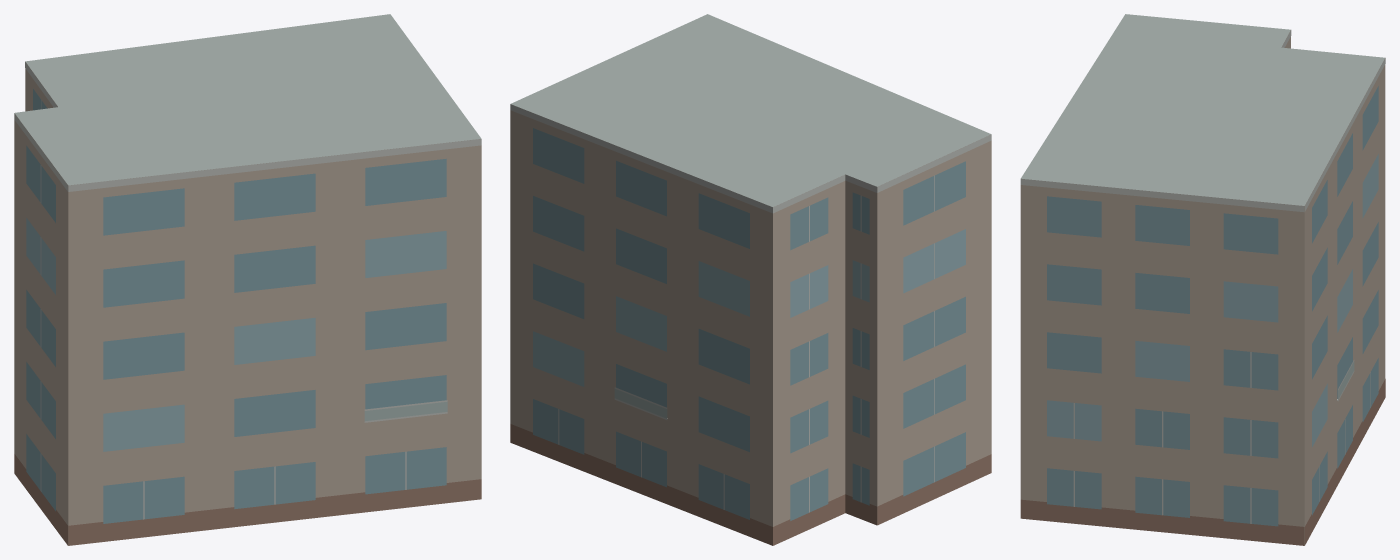
File: survey-upis-32671923.glb
3 renders of one model, left to right at view 1: azimuth 30°, elevation 25°; view 2: azimuth 150°, elevation 25°; view 3: azimuth 270°, elevation 25°, orthographic. The views are drawn at different scales.
Visible parts, largest first — view 1: survey-upis-32671923.tmp; view 2: survey-upis-32671923.tmp; view 3: survey-upis-32671923.tmp.
Part boxes in pixels (bbox=[...]): survey-upis-32671923.tmp: bbox=[14, 14, 481, 545]; survey-upis-32671923.tmp: bbox=[510, 14, 991, 545]; survey-upis-32671923.tmp: bbox=[1020, 14, 1385, 545].
Bounding box in the file's own units: 16.12 × 13.3 × 12.95.
